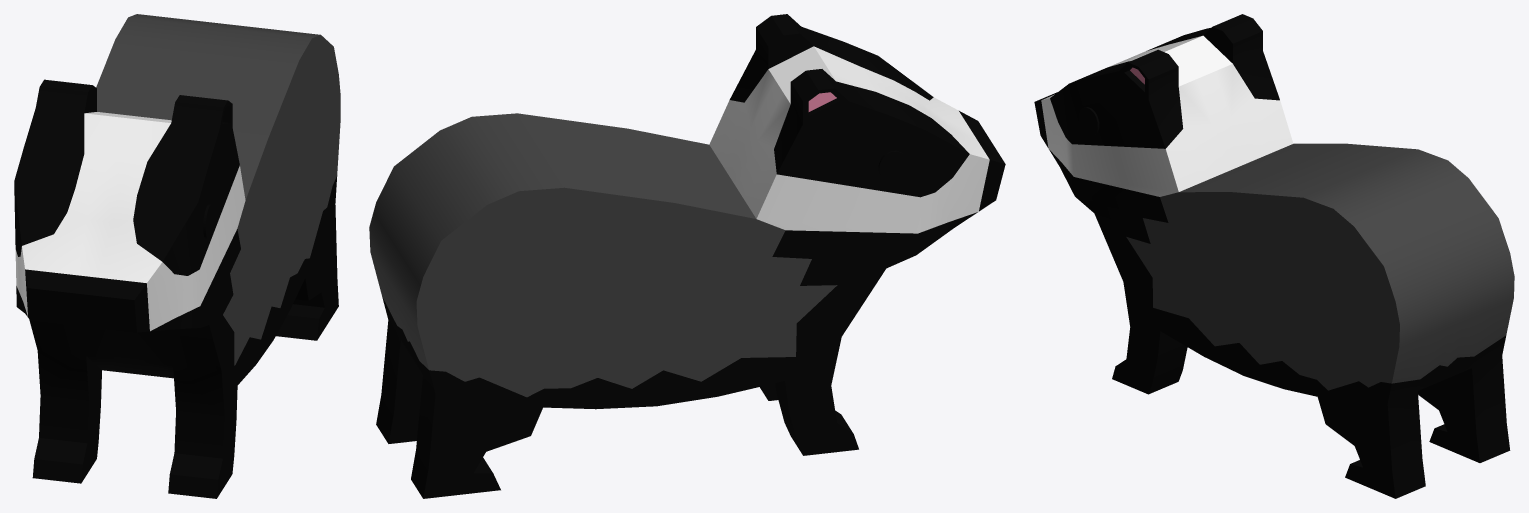
The model's file is badger.fbx.
3 views of the same model, side by side, from view 1: azimuth 30°, elevation 25°; view 2: azimuth 150°, elevation 25°; view 3: azimuth 270°, elevation 25° (orthographic). The views are drawn at different scales.
Visible parts, largest first — view 1: Plane.148; view 2: Plane.148, Circle.1935; view 3: Plane.148.
Boxes of the visible parts, x1,y1,x2,y2 form: Plane.148: [14, 14, 340, 498]; Plane.148: [369, 14, 1005, 498]; Circle.1935: [878, 150, 908, 182]; Plane.148: [1034, 14, 1514, 498].
Size of the model in its own units: 215 by 160 by 215.
Materials: 1 (1 with a texture image).
